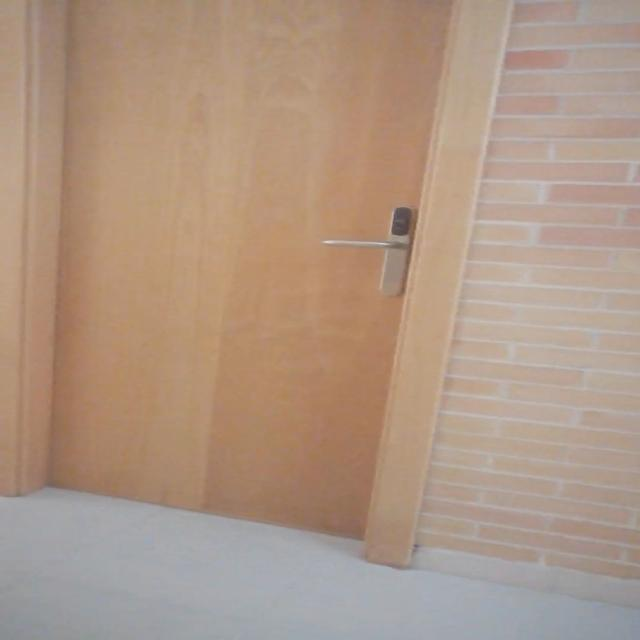door_handle: (319, 238, 408, 253)
